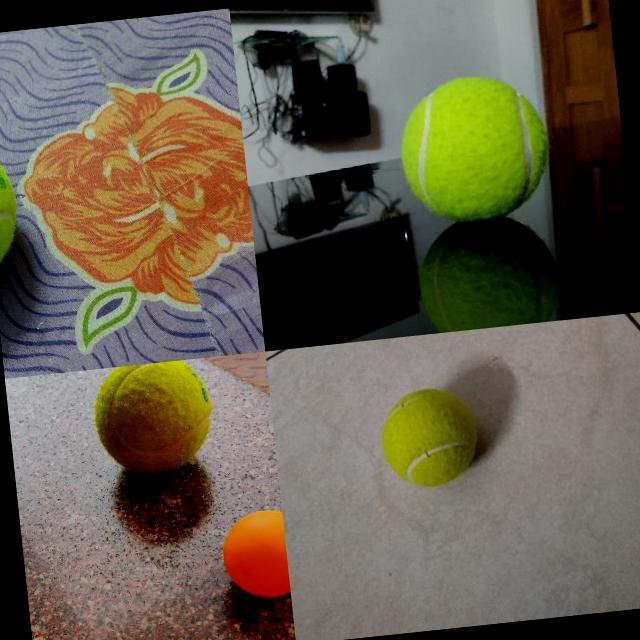tennis-ball: (393, 68, 555, 228), (89, 357, 218, 480), (376, 383, 484, 493)
